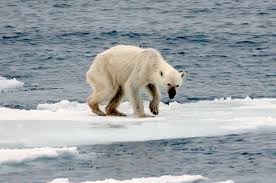PolarBear: (75, 38, 195, 126)
